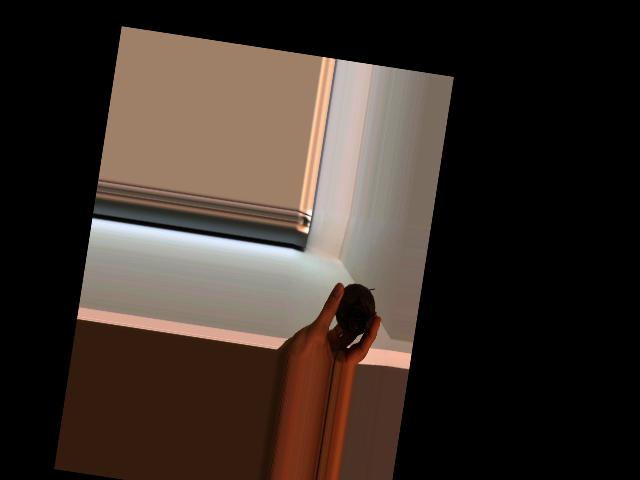beet: (327, 280, 380, 367)
